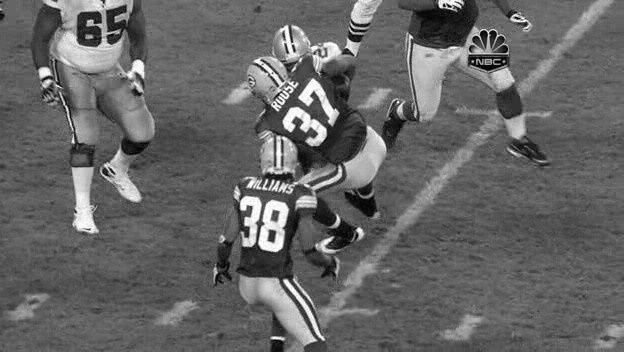person: (275, 34, 308, 76), (274, 34, 307, 76), (276, 34, 309, 76), (275, 33, 308, 75), (275, 35, 308, 77)
target_negative: (35, 81, 310, 164), (399, 184, 534, 300), (212, 315, 360, 327), (567, 170, 574, 324), (342, 346, 610, 350)
